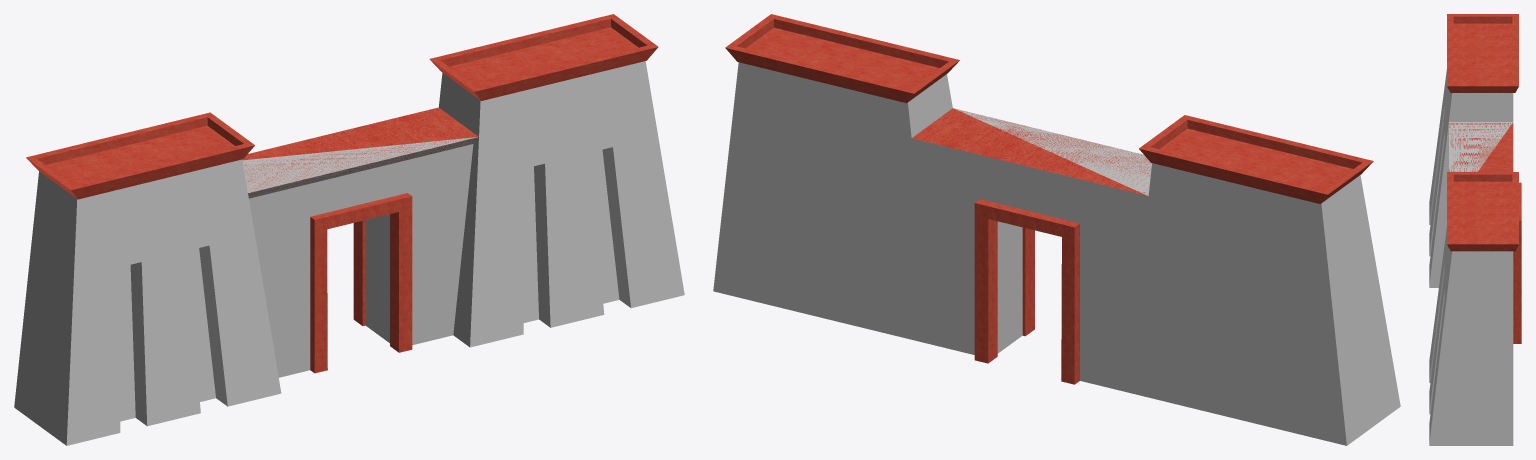
The model's file is Wall entrance.FBX.
3 views of the same model, side by side, from view 1: azimuth 30°, elevation 25°; view 2: azimuth 150°, elevation 25°; view 3: azimuth 270°, elevation 25° (orthographic). The views are drawn at different scales.
Parts seen in each view (by area): view 1: wall entrance; view 2: wall entrance; view 3: wall entrance.
Boxes of the visible parts, x1,y1,x2,y2 form: wall entrance: [14, 14, 684, 445]; wall entrance: [713, 14, 1400, 445]; wall entrance: [1429, 14, 1521, 445].
Size of the model in its own units: 1900 by 716 by 307.
